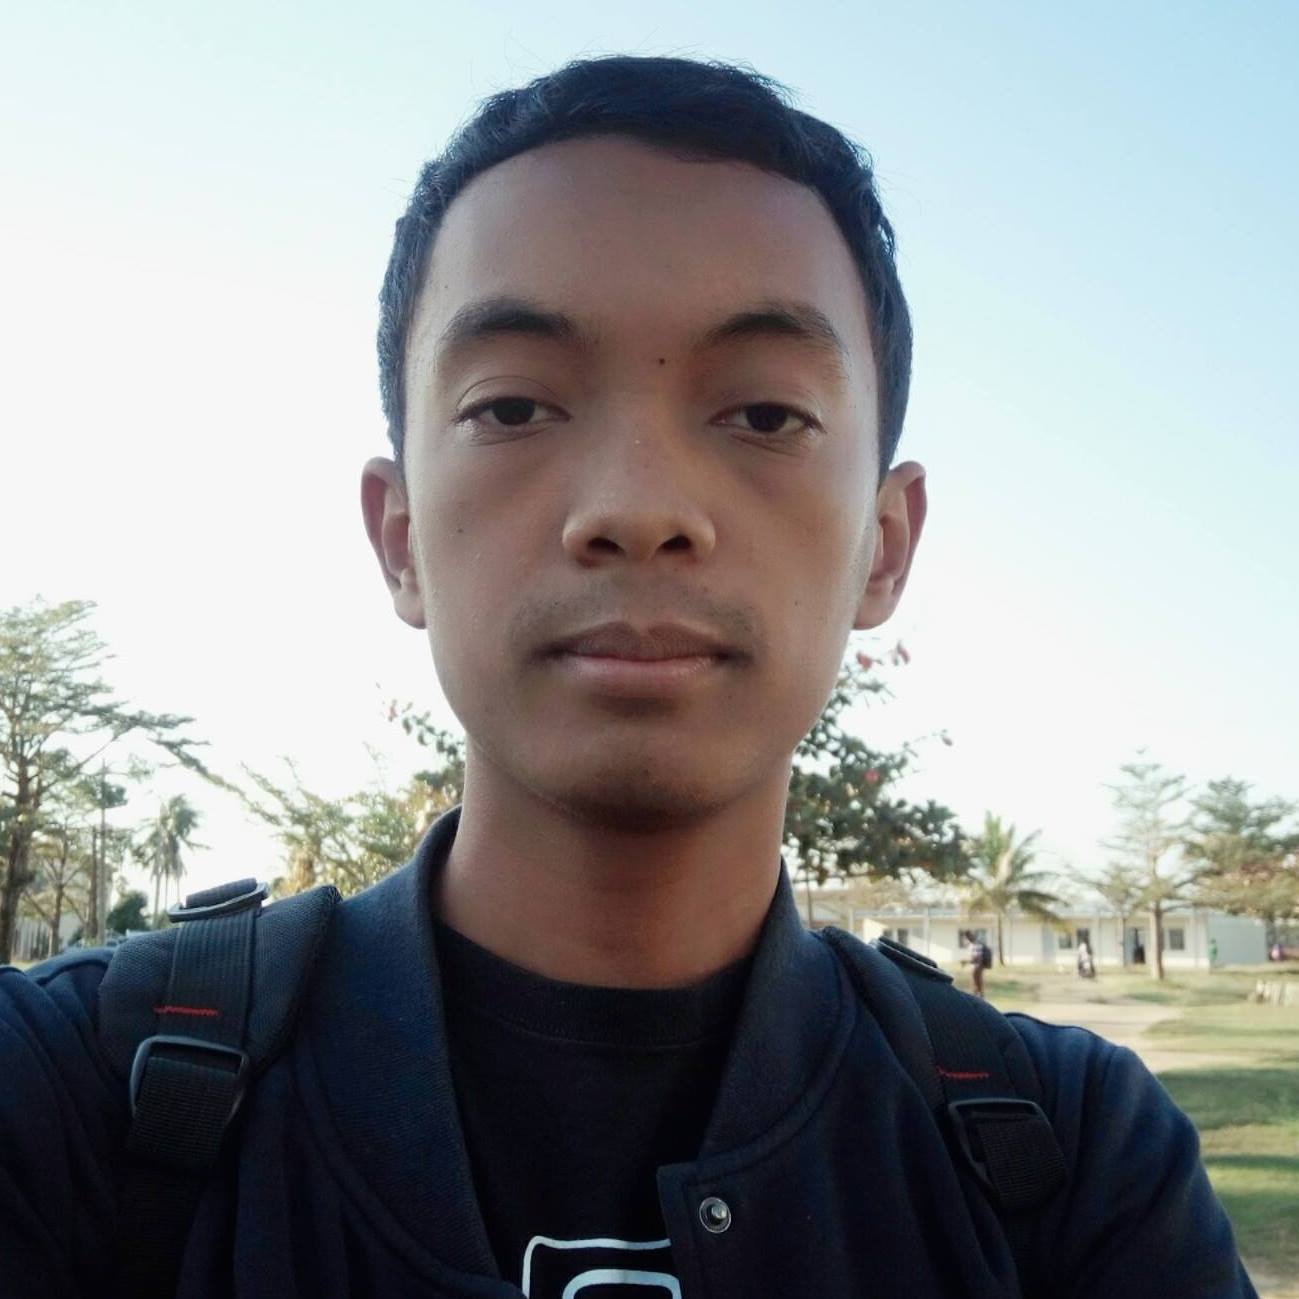BOY: (330, 45, 950, 827)
